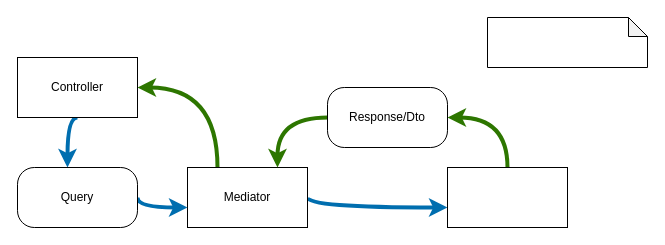
Some shapes in this 665 by 245 pixel diagram are drawn without their labels. Here are the shapes that lost their labels. From the top down, the centre of each, then its label:
At (567,42): "Como usamos Mediatr en el proyecto".
At (507,197): "Handler".
